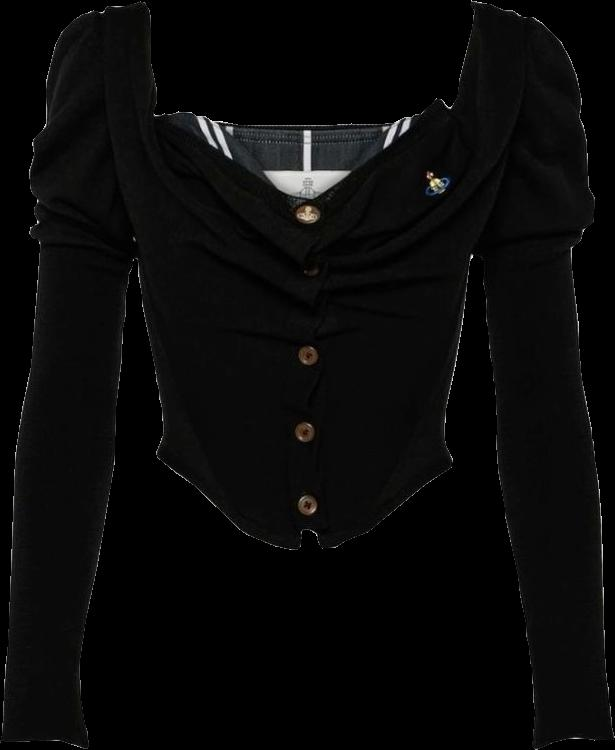Bodice: (101, 0, 525, 550)
Neckline: (137, 0, 478, 217)
Sleeve: (476, 13, 613, 749), (3, 9, 136, 749)
Sleeveline: (472, 14, 532, 258), (97, 13, 138, 253)
Waistline: (155, 449, 458, 548)
